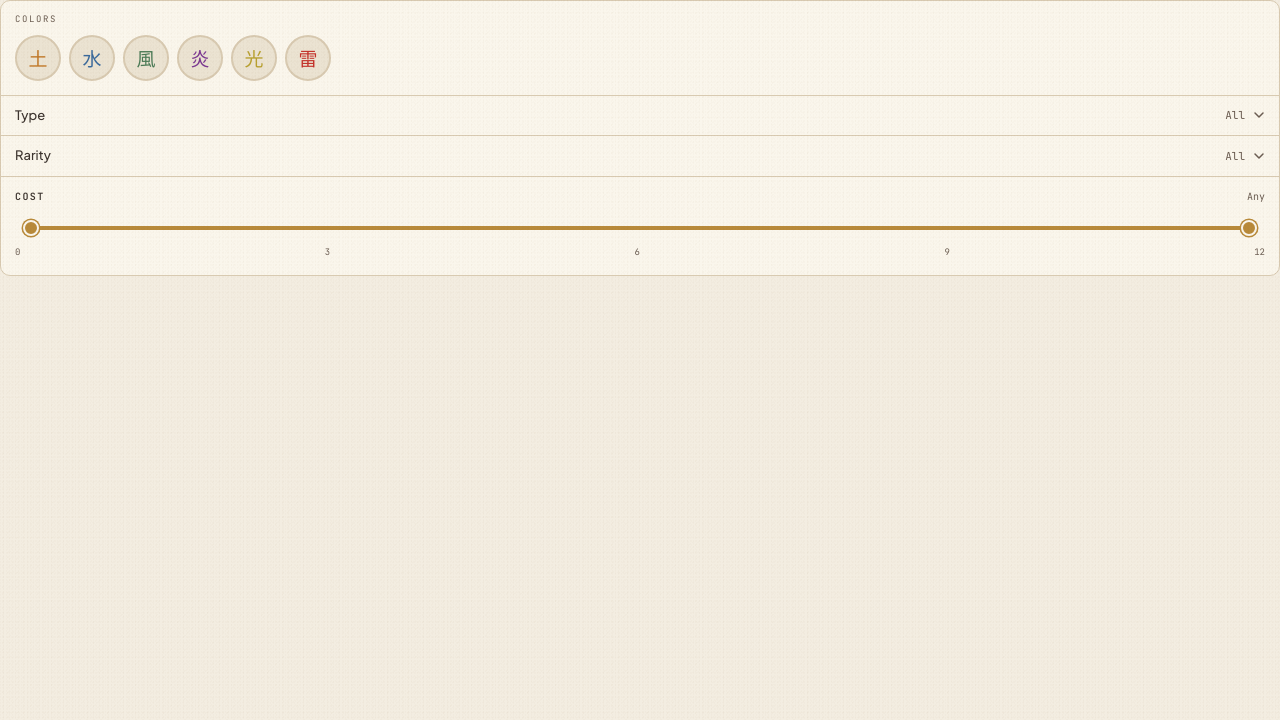
Test: FilterPanel — types › renders all 7 canonical card types after opening accordion
Click the text "Type".
click(30, 115)  # box top-left (15, 106), bottom-right (45, 125)
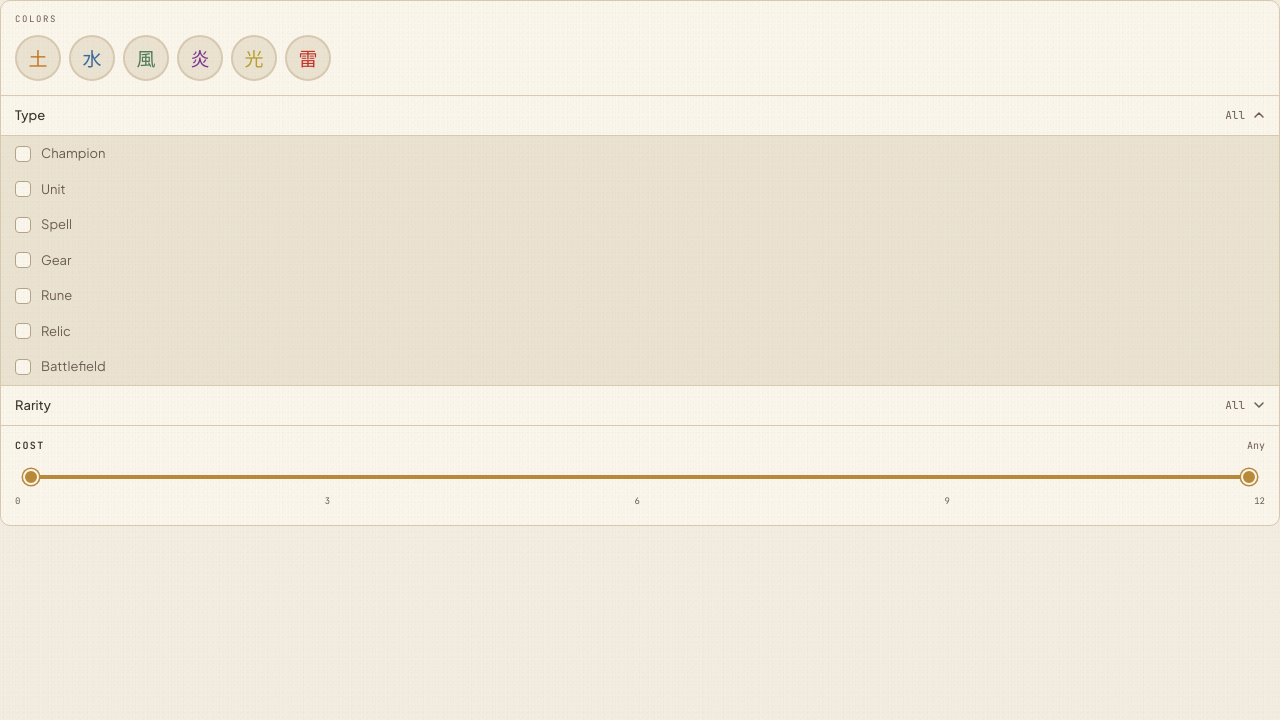
Check: the text "Champion" is shown, box top-left (41, 144), bottom-right (106, 164)
Check: the text "Unit" is shown, box top-left (41, 180), bottom-right (66, 199)
Check: the text "Spell" is shown, box top-left (41, 215), bottom-right (72, 234)
